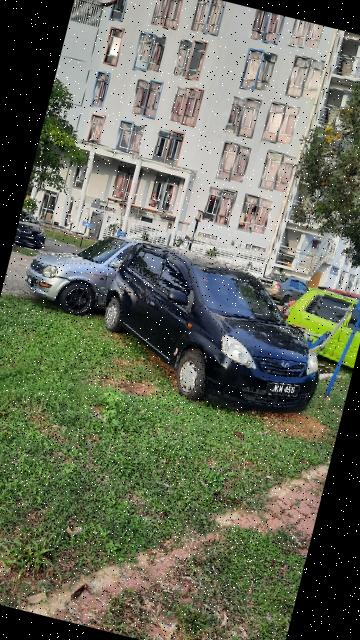License_Plate: (266, 378, 303, 402)
car: (89, 237, 346, 431), (24, 218, 167, 329), (277, 279, 360, 376)
